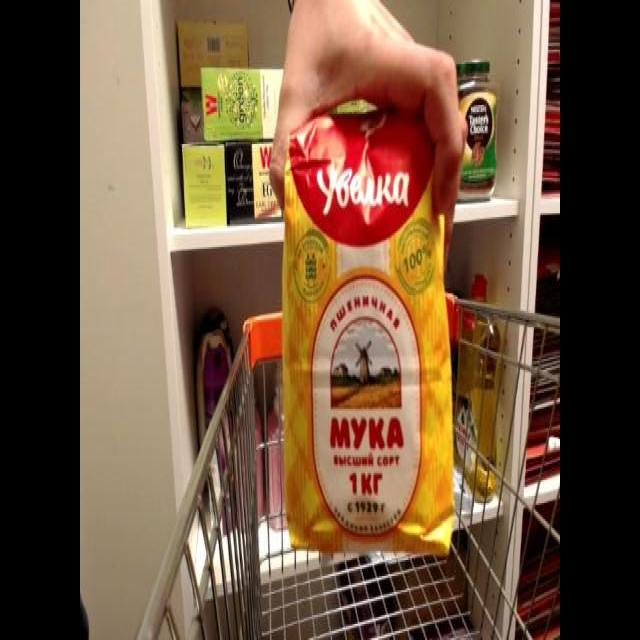Flour: (277, 82, 470, 562)
